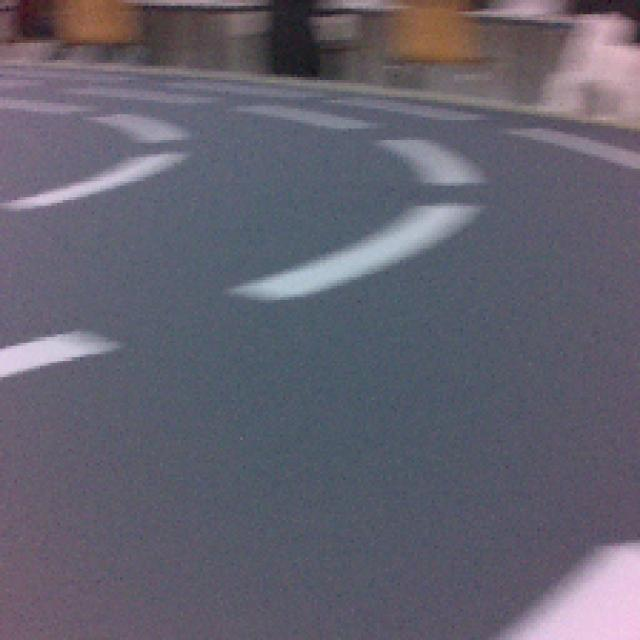Road: (0, 332, 640, 640)
